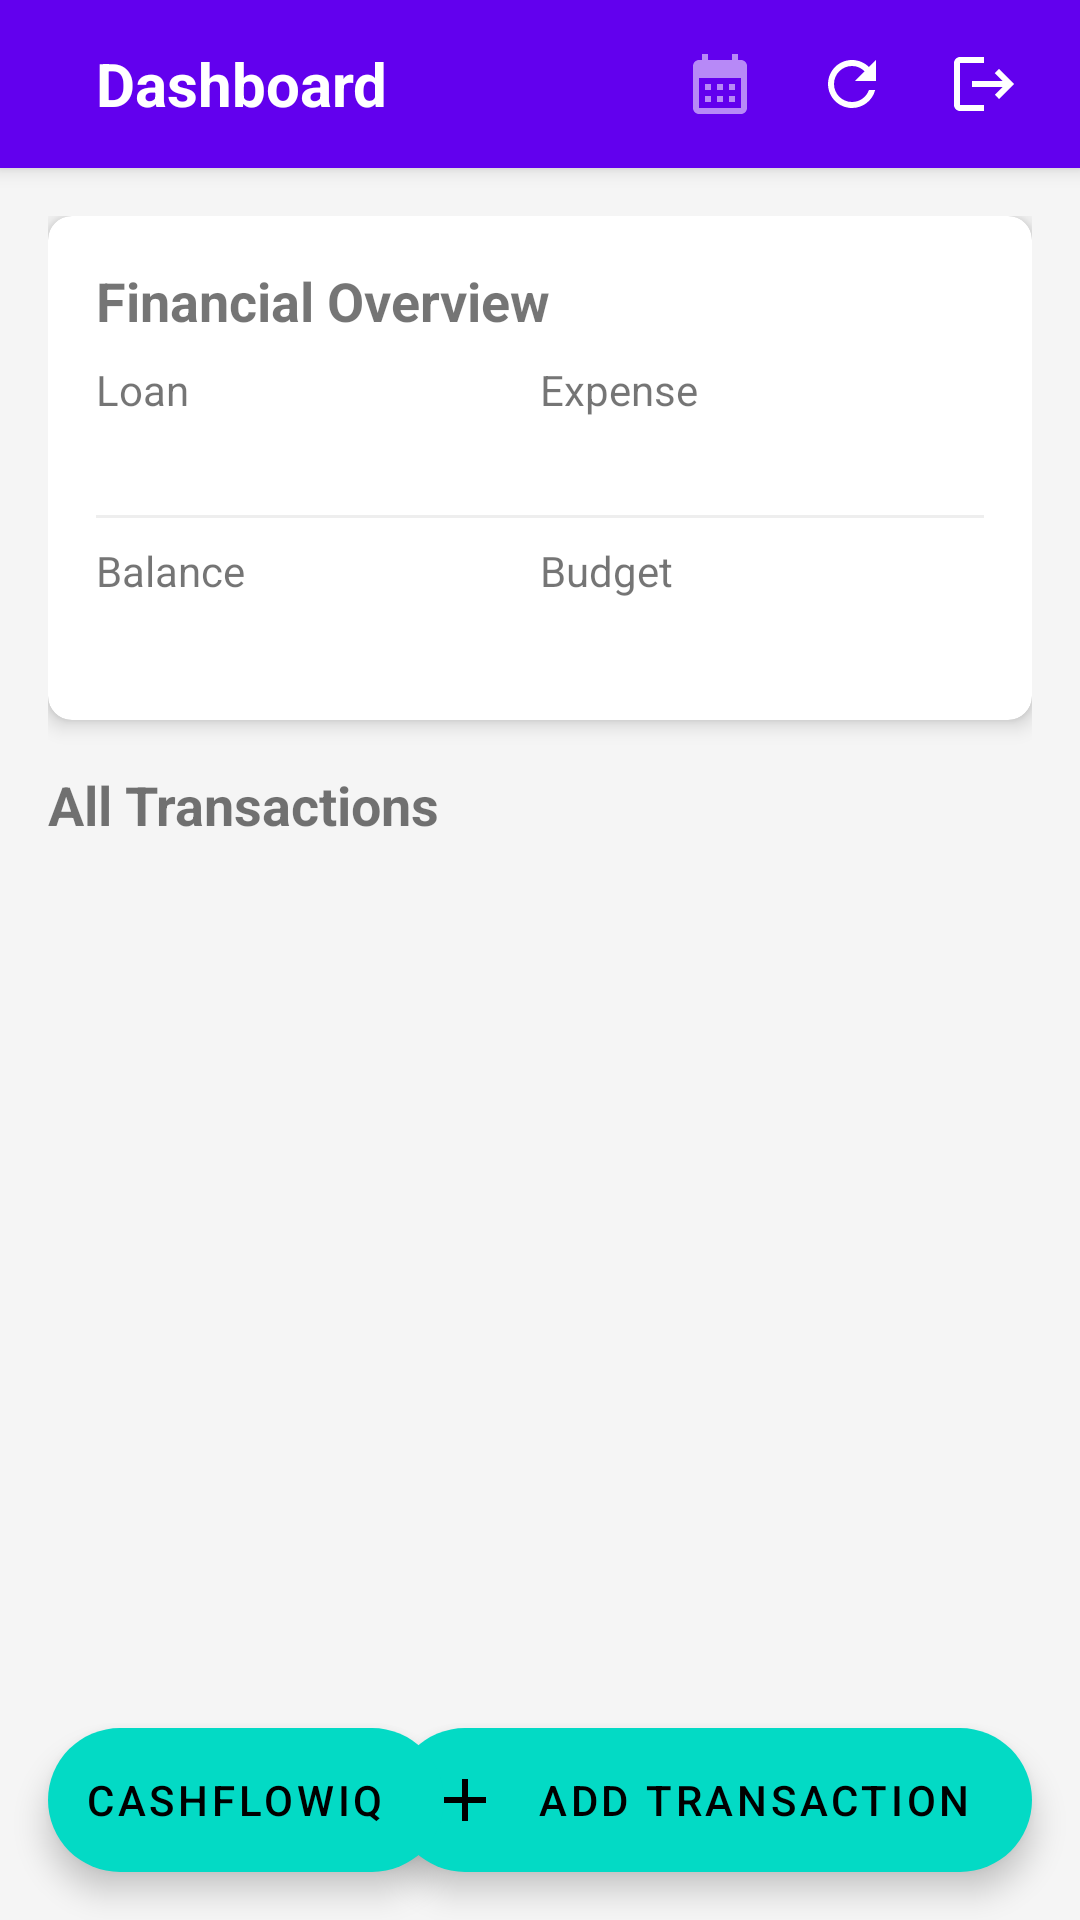

Icon bounding boxes for this 1080*1920 phone screenshot, format (x1, y1, x2, y2):
calendar month: (693, 54, 747, 114)
refresh: (828, 60, 876, 108)
